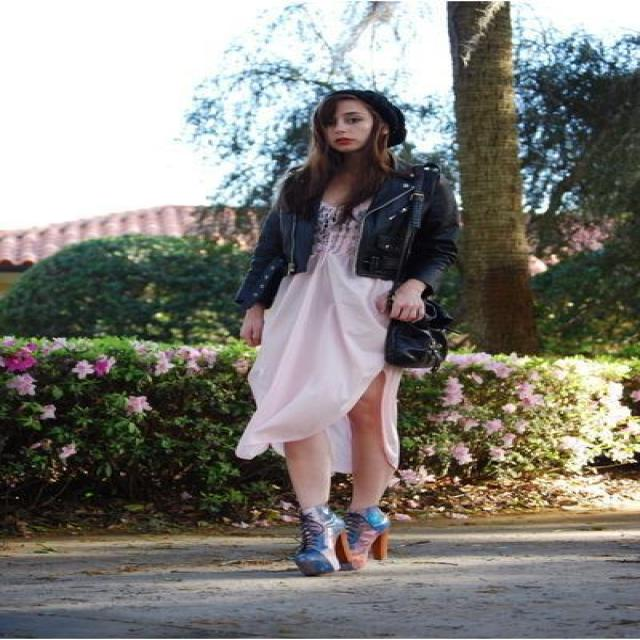bag: (376, 295, 458, 370)
dress: (235, 195, 398, 473)
hat: (315, 90, 418, 152)
jacket: (242, 166, 460, 310)
shoe: (270, 499, 402, 576)
